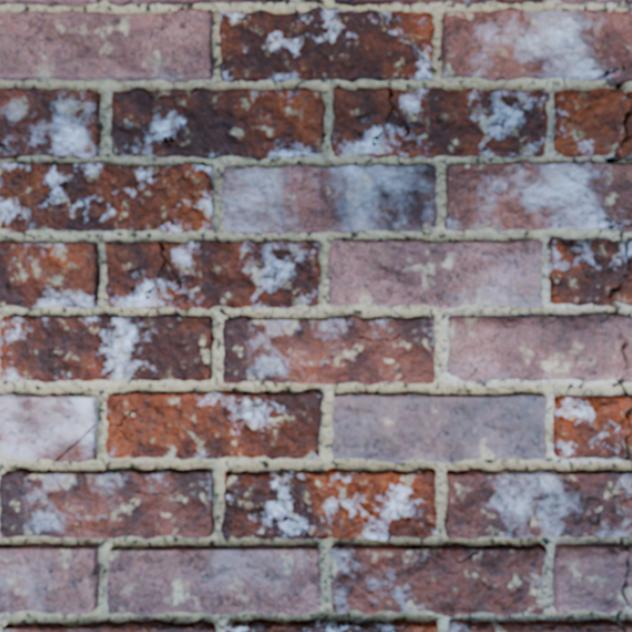brick: (220, 7, 434, 82), (331, 543, 547, 617), (0, 9, 213, 82), (331, 88, 548, 158), (112, 88, 324, 159), (0, 469, 215, 539), (107, 546, 320, 616), (105, 241, 320, 310), (221, 470, 435, 539), (0, 162, 214, 231), (333, 394, 546, 463), (106, 391, 322, 459), (224, 316, 434, 385), (222, 165, 436, 232), (329, 241, 542, 308), (0, 315, 213, 382), (442, 8, 631, 79), (445, 469, 631, 538), (445, 162, 631, 230), (0, 87, 101, 158), (0, 543, 100, 613), (0, 242, 100, 308), (0, 394, 97, 460), (226, 619, 436, 631), (3, 620, 215, 631), (58, 427, 96, 462), (108, 0, 319, 5), (335, 0, 544, 5), (107, 395, 133, 423), (0, 0, 98, 5), (608, 67, 631, 81), (621, 229, 631, 231)
broken_brick: (446, 313, 631, 383), (548, 238, 631, 306), (552, 544, 631, 614), (553, 88, 631, 158), (553, 395, 631, 460), (447, 619, 621, 631), (619, 119, 631, 156), (558, 0, 618, 5), (622, 619, 631, 631), (630, 240, 631, 259)
crack: (372, 87, 412, 147), (145, 241, 184, 301), (585, 481, 631, 527), (602, 216, 631, 276), (106, 394, 144, 439), (55, 424, 96, 463), (606, 105, 631, 165), (25, 316, 54, 358), (599, 63, 631, 98), (616, 559, 631, 631), (149, 87, 200, 99), (607, 282, 622, 315), (616, 374, 630, 398), (622, 434, 631, 461), (555, 110, 572, 124), (619, 536, 630, 551), (618, 0, 631, 11), (554, 129, 564, 140), (427, 205, 436, 212), (0, 140, 5, 147), (553, 423, 557, 428), (562, 90, 568, 93)
